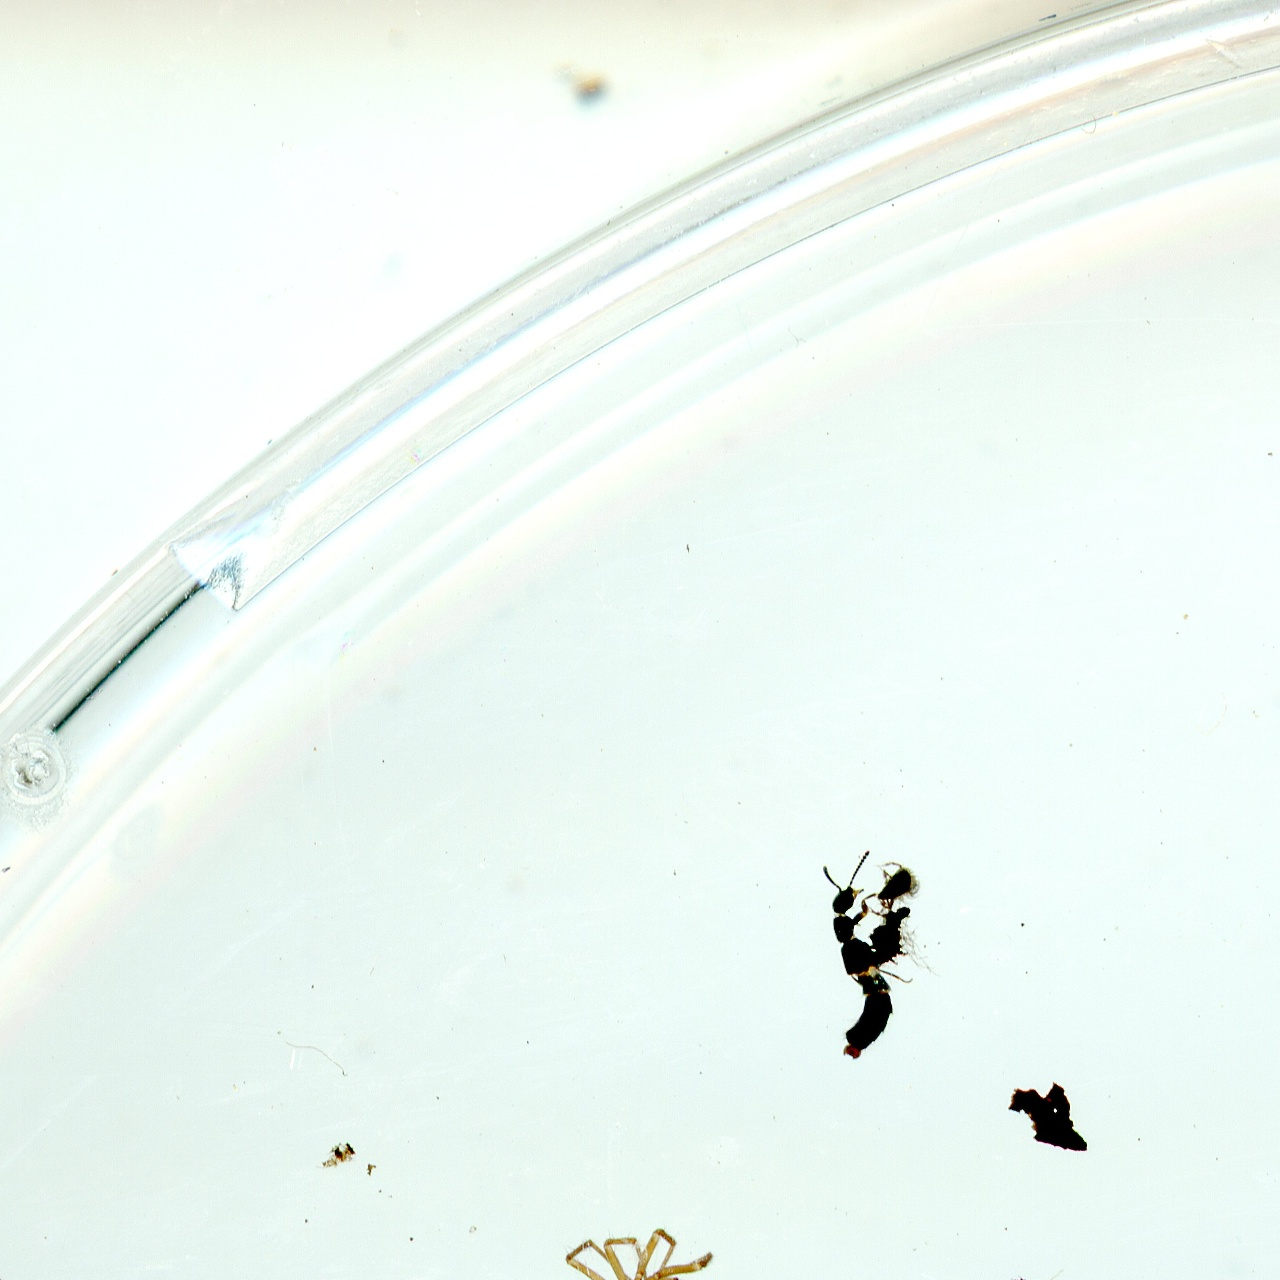arthropod: (821, 846, 914, 1057), (557, 1216, 743, 1280), (869, 859, 921, 921)
